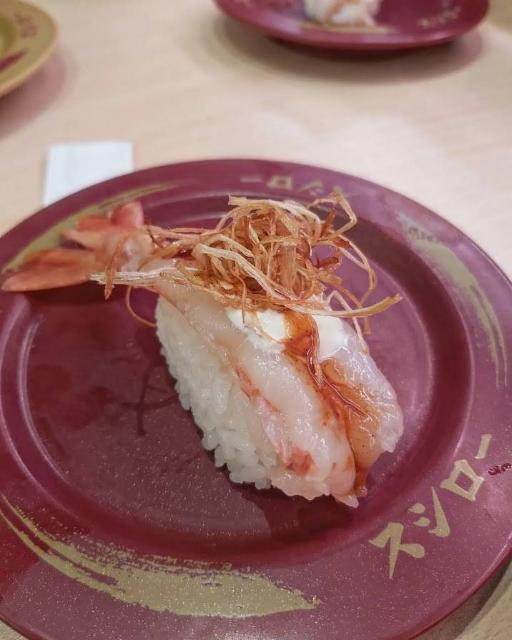jangold: (2, 12, 81, 81)
janred: (0, 172, 482, 594), (224, 0, 482, 64)
